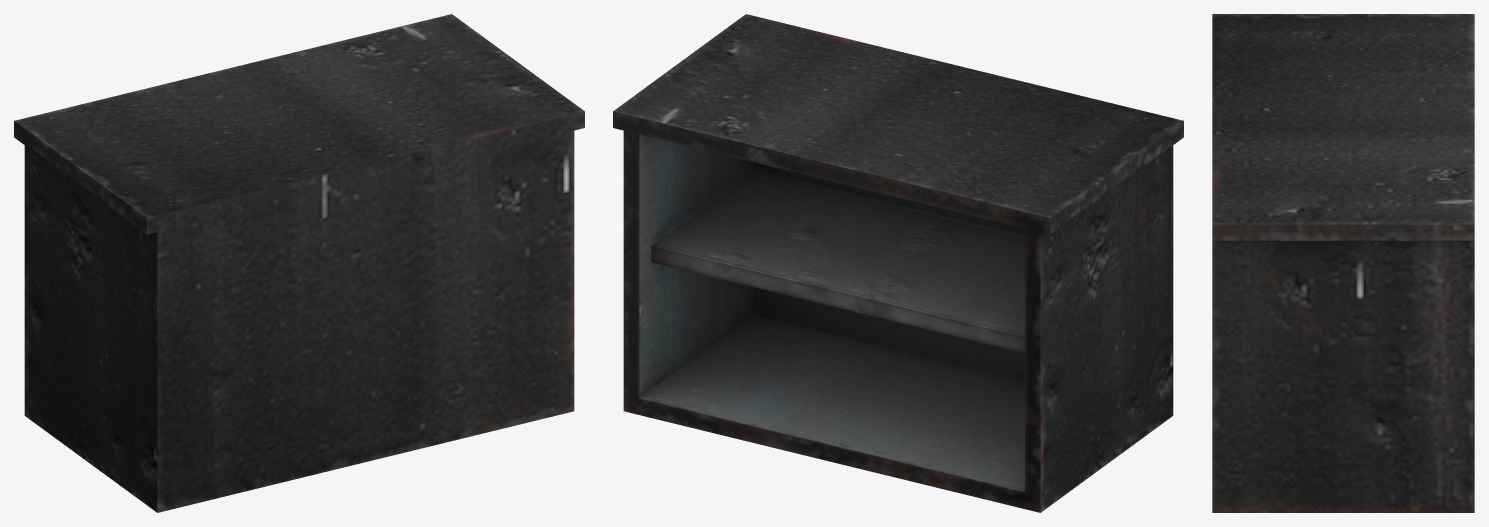
Rendered from SmallStorage_01.FBX.
The picture shows the model from 3 angles, left to right: view 1: azimuth 30°, elevation 25°; view 2: azimuth 150°, elevation 25°; view 3: azimuth 270°, elevation 25°; orthographic projection.
Parts seen in each view (by area): view 1: SmallStorage_01; view 2: SmallStorage_01; view 3: SmallStorage_01.
Boxes of the visible parts, bbox=[...] form: SmallStorage_01: bbox=[14, 14, 584, 512]; SmallStorage_01: bbox=[613, 14, 1183, 512]; SmallStorage_01: bbox=[1212, 14, 1474, 512].
Bounding box in the file's own units: 84.34 × 54.76 × 44.36.
